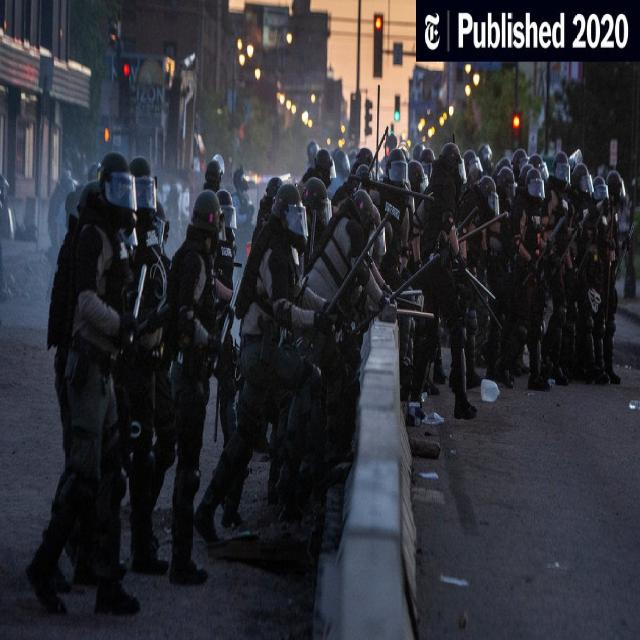police: (26, 135, 149, 631), (322, 140, 489, 424), (202, 176, 326, 543), (133, 176, 239, 590), (494, 150, 632, 382)
